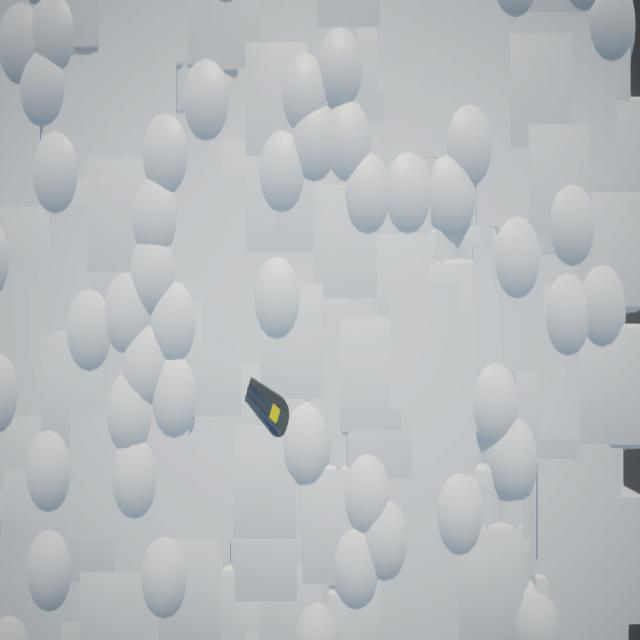handle_folk: (246, 378, 291, 438)
